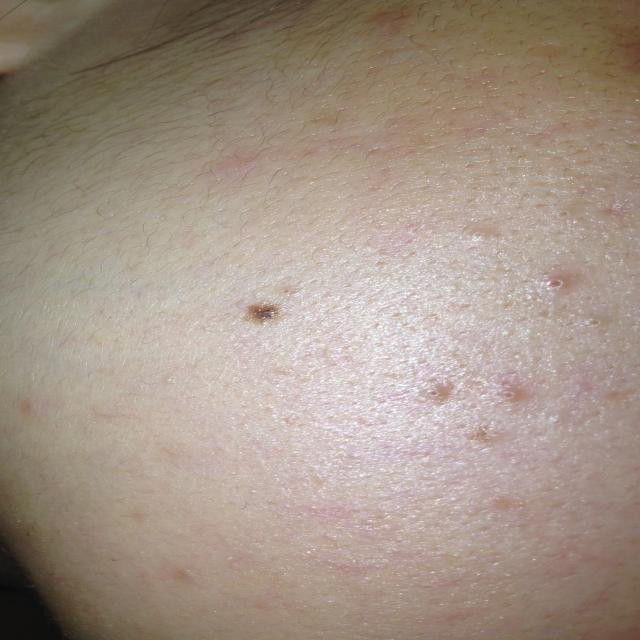dark spot: (237, 300, 290, 332)
